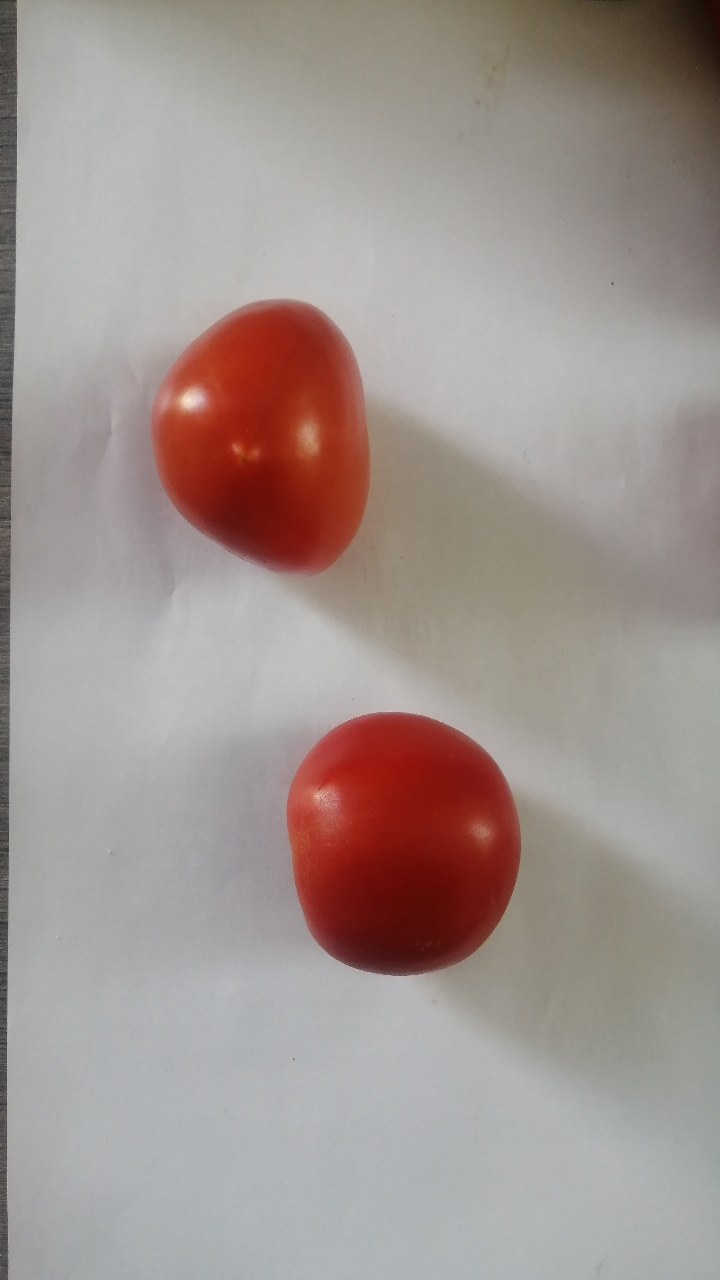tomateRojo: (258, 682, 543, 991), (134, 282, 395, 605)
